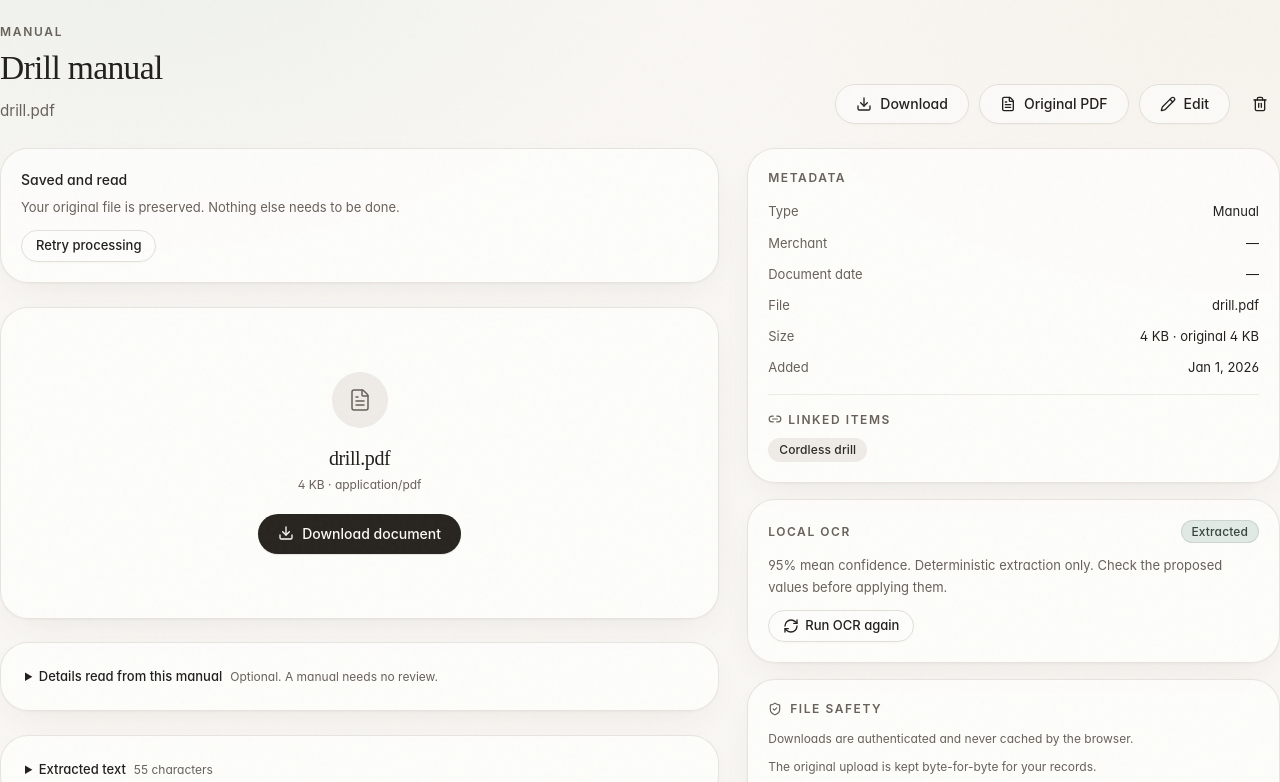
DocumentDetailPage extraction review › shows the text of every page read, loaded only when the section is opened
Click the heading "Extracted text55 characters" at x=126, y=770, box top-left (39, 762), bottom-right (213, 778)
(page scrolled)
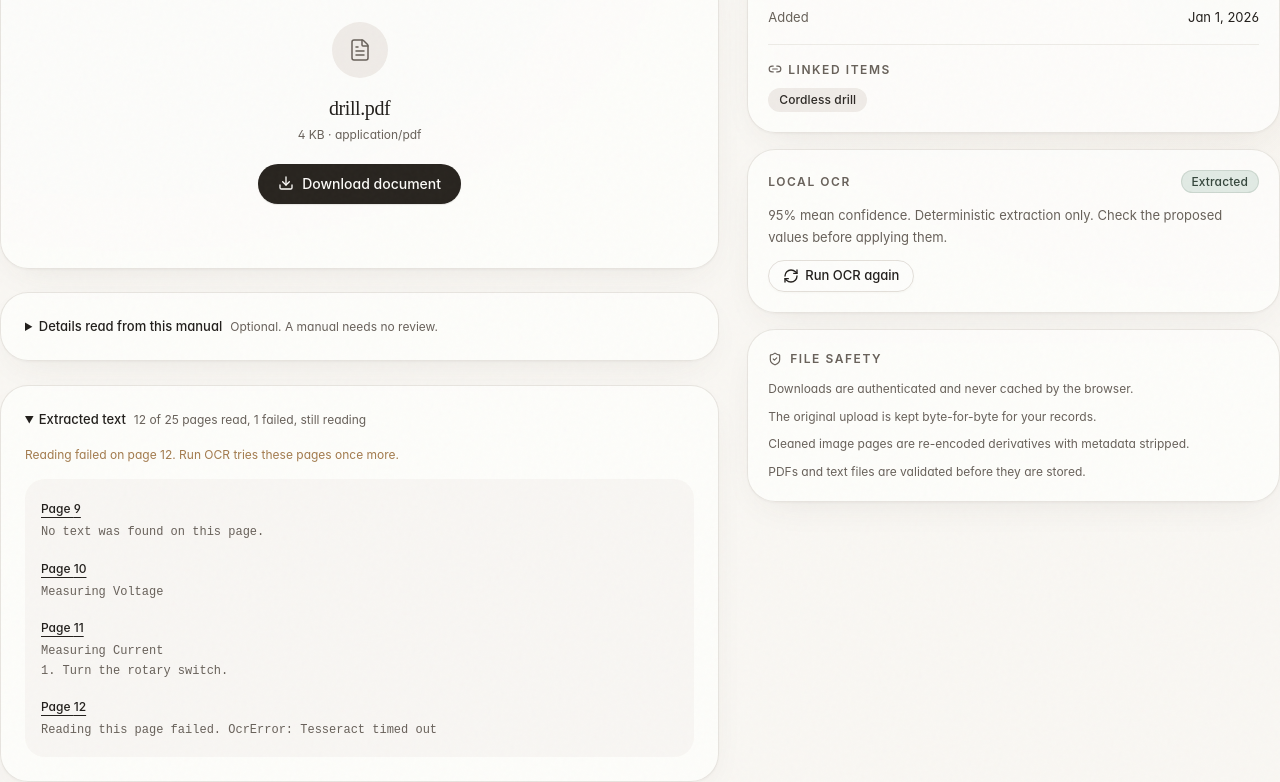
Now the text "12 of 25 pages read, 1 failed, still reading" is shown, box top-left (134, 412), bottom-right (366, 428)
Now the element named "Text of page 11" shows "Measuring Current 1. Turn the rotary switch.", box top-left (41, 644), bottom-right (228, 678)
Now the element named "Text of page 9" shows "No text was found on this page.", box top-left (41, 525), bottom-right (264, 539)
